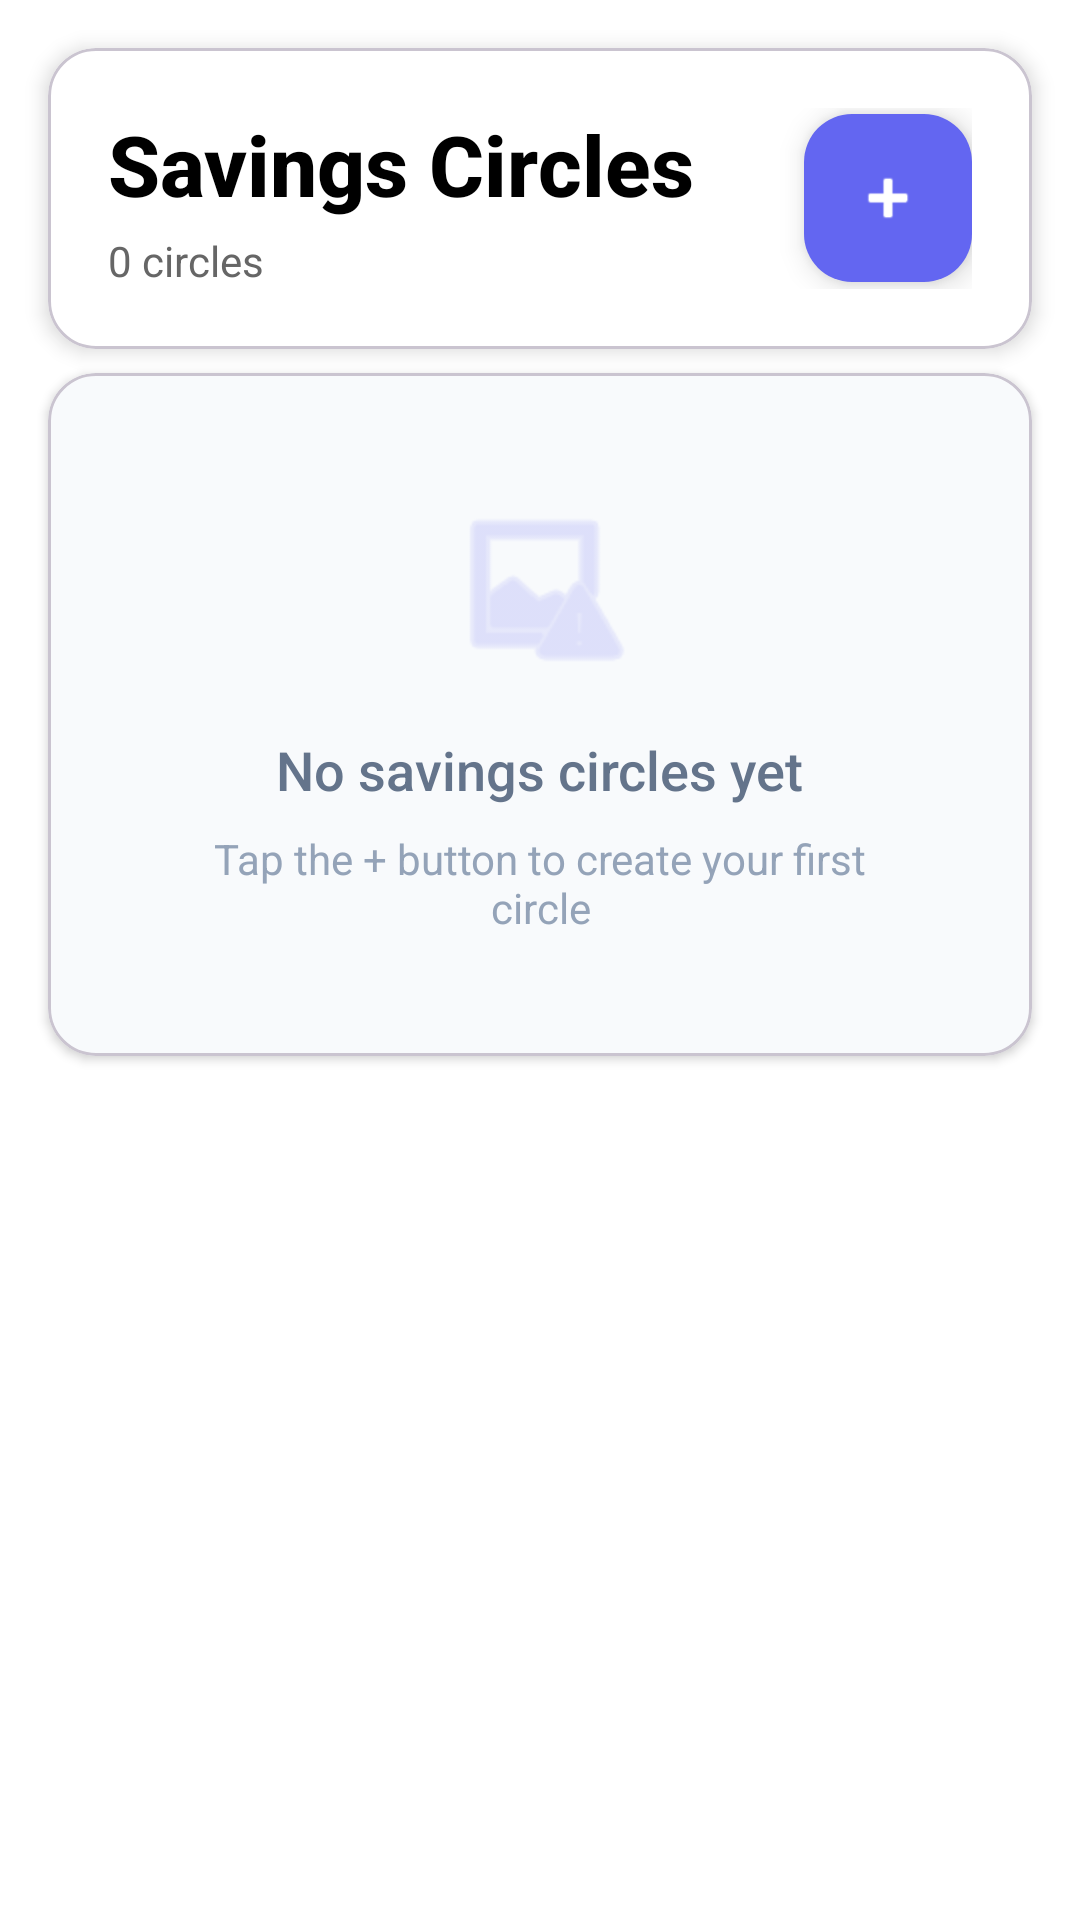

Where icons sit on this 1080 x 1920 app screen, as (x1, y1, x2, y2):
Create savings circle: (804, 114, 972, 282)
